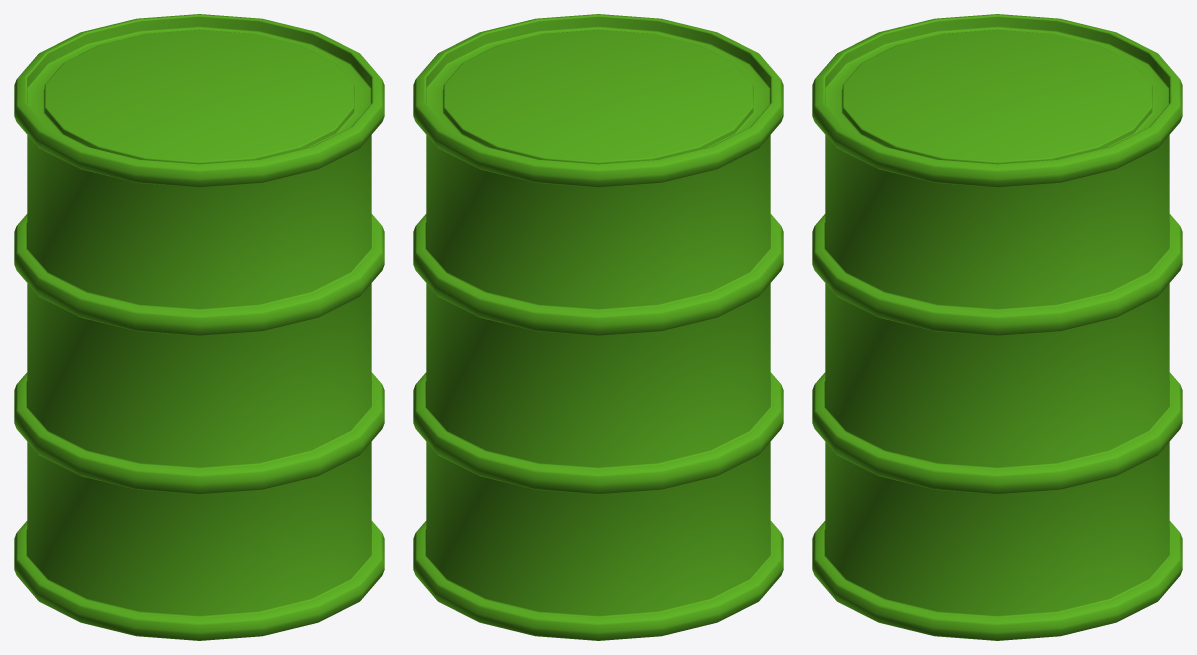
File: BarilClose.fbx
3 views of the same model, side by side, from view 1: azimuth 30°, elevation 25°; view 2: azimuth 150°, elevation 25°; view 3: azimuth 270°, elevation 25° (orthographic).
Parts seen in each view (by area): view 1: BarilClose_Lp001; view 2: BarilClose_Lp001; view 3: BarilClose_Lp001.
Boxes of the visible parts, x1=… form: BarilClose_Lp001: x1=14, y1=14, x2=384, y2=640; BarilClose_Lp001: x1=413, y1=14, x2=783, y2=640; BarilClose_Lp001: x1=812, y1=14, x2=1182, y2=640.
Size of the model in its own units: 13.56 by 18.9 by 13.35.
